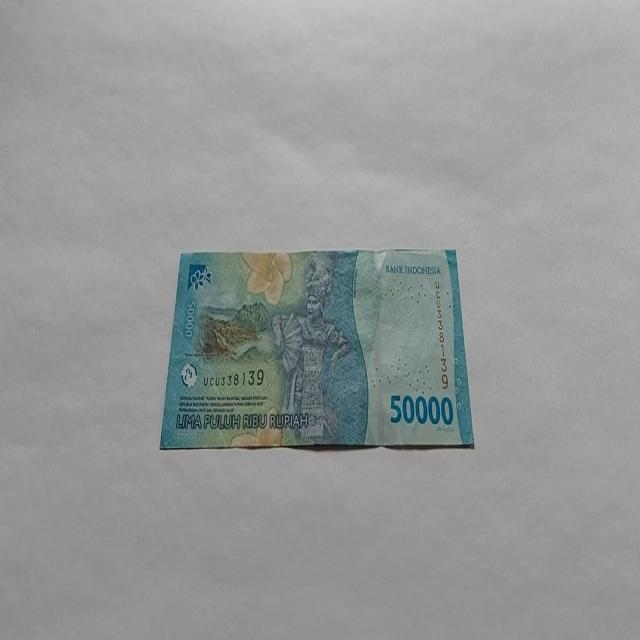lima puluh ribu rupiah: (158, 246, 475, 452)
